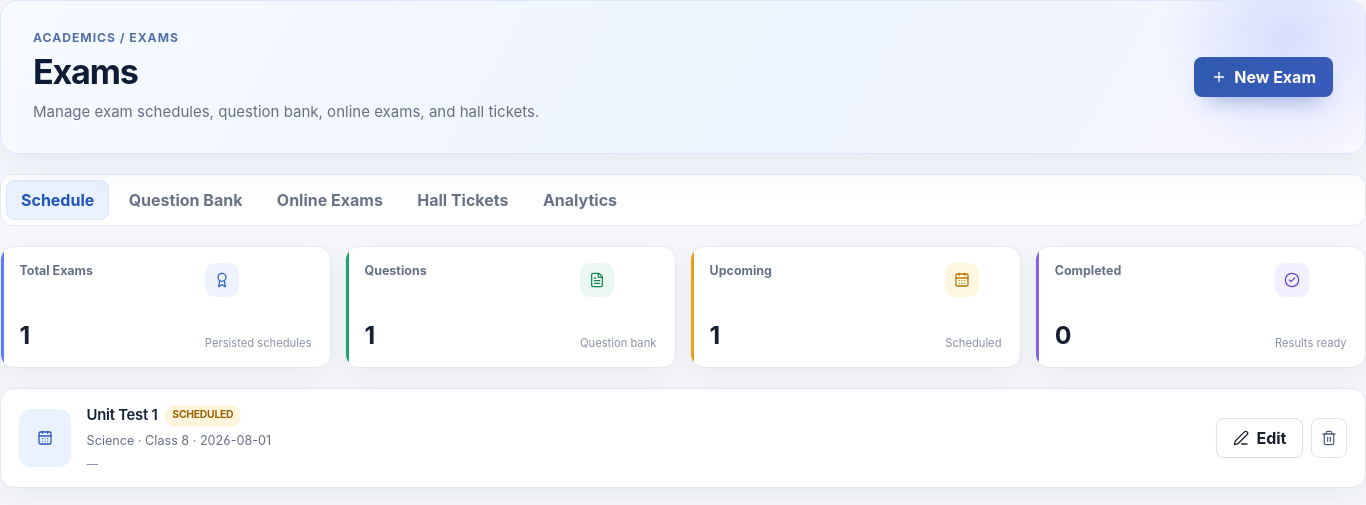
Test case: AcademicOperationsPage › loads question bank records when its exam tab is selected
Check: the heading "Unit Test 1 SCHEDULED" is shown, box [87,405,241,427]
Click the button "Question Bank" at (186, 200), box [114,180,258,220]
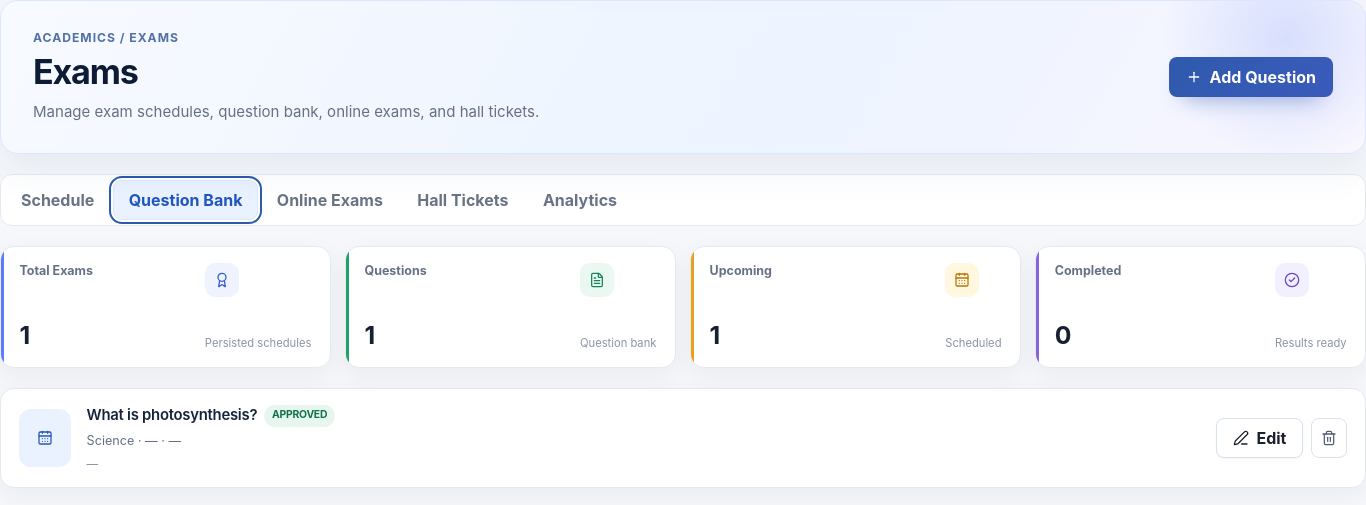
Check: the heading "What is photosynthesis? APPROVED" is shown, box [87,405,335,427]
